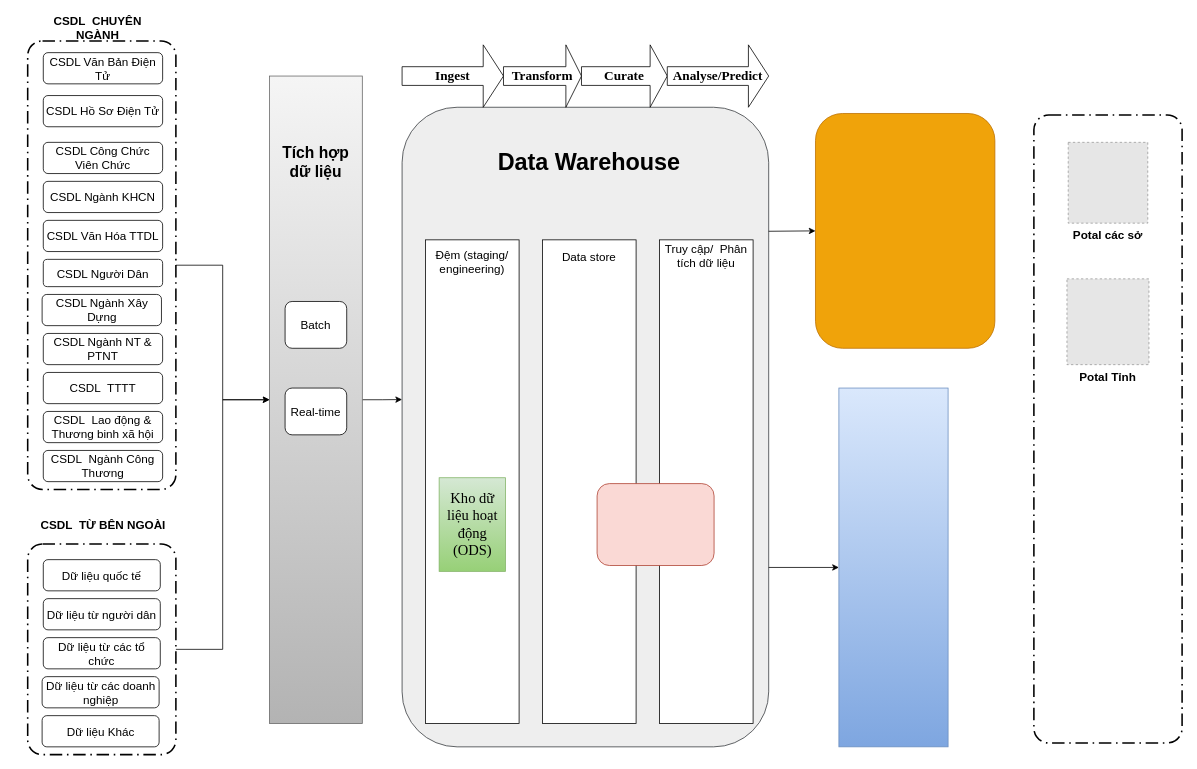
The diagram is 1197 pixels wide and 769 high, and some of its shapes have lost their labels. Grey dashed boxes stand in for pictures. Each missing label, with the centre of its shape:
API chia sẻ dữ liệu: the point at 893,567
Hệ thống BI (Dashboard): the point at 905,230
Mô hình dữ liêu (Data Model): the point at 655,524
